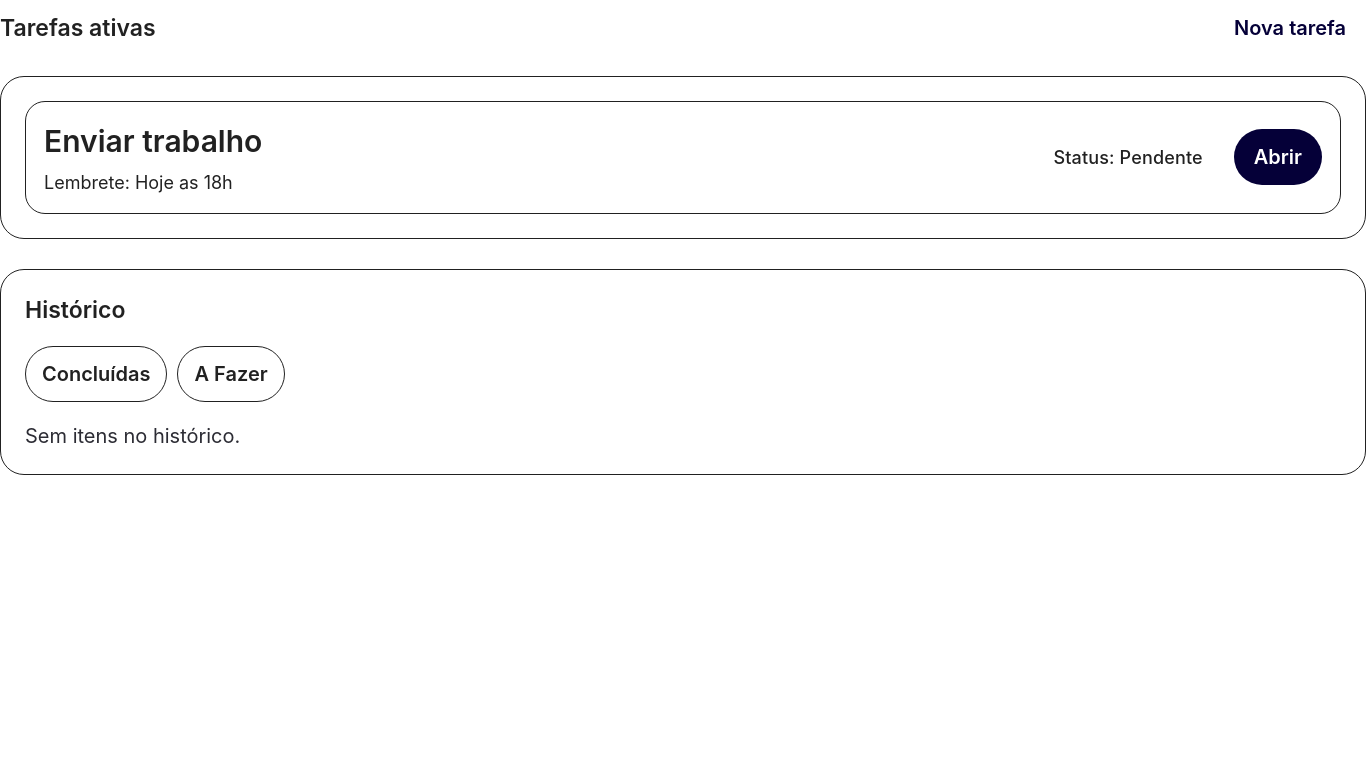
ActivityOrganizer › keeps the activity pending when modal completion is cancelled
Click the button with aria-label "Abrir atividade Enviar trabalho": [1278, 157] box top-left (1234, 129), bottom-right (1322, 185)
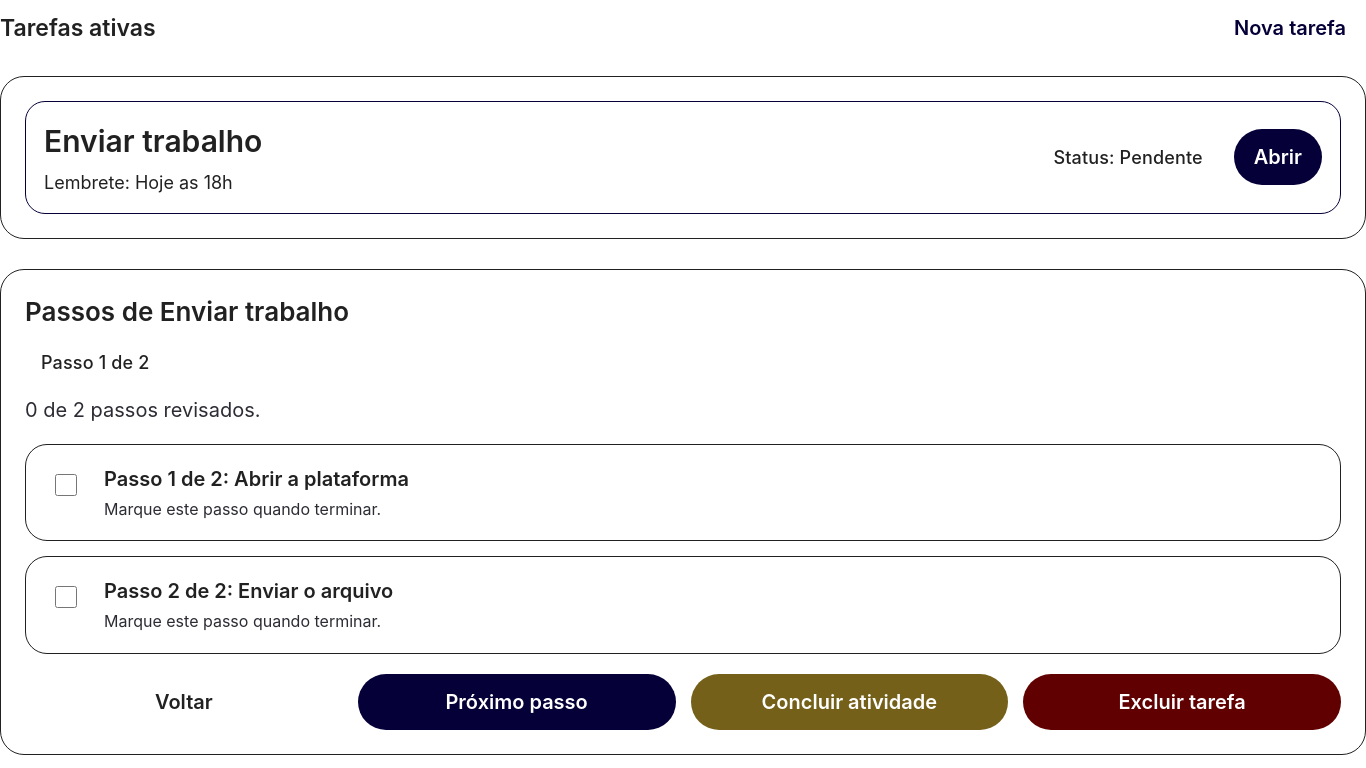
Click the button with aria-label "Concluir atividade Enviar trabalho": [849, 702] box top-left (690, 674), bottom-right (1008, 730)
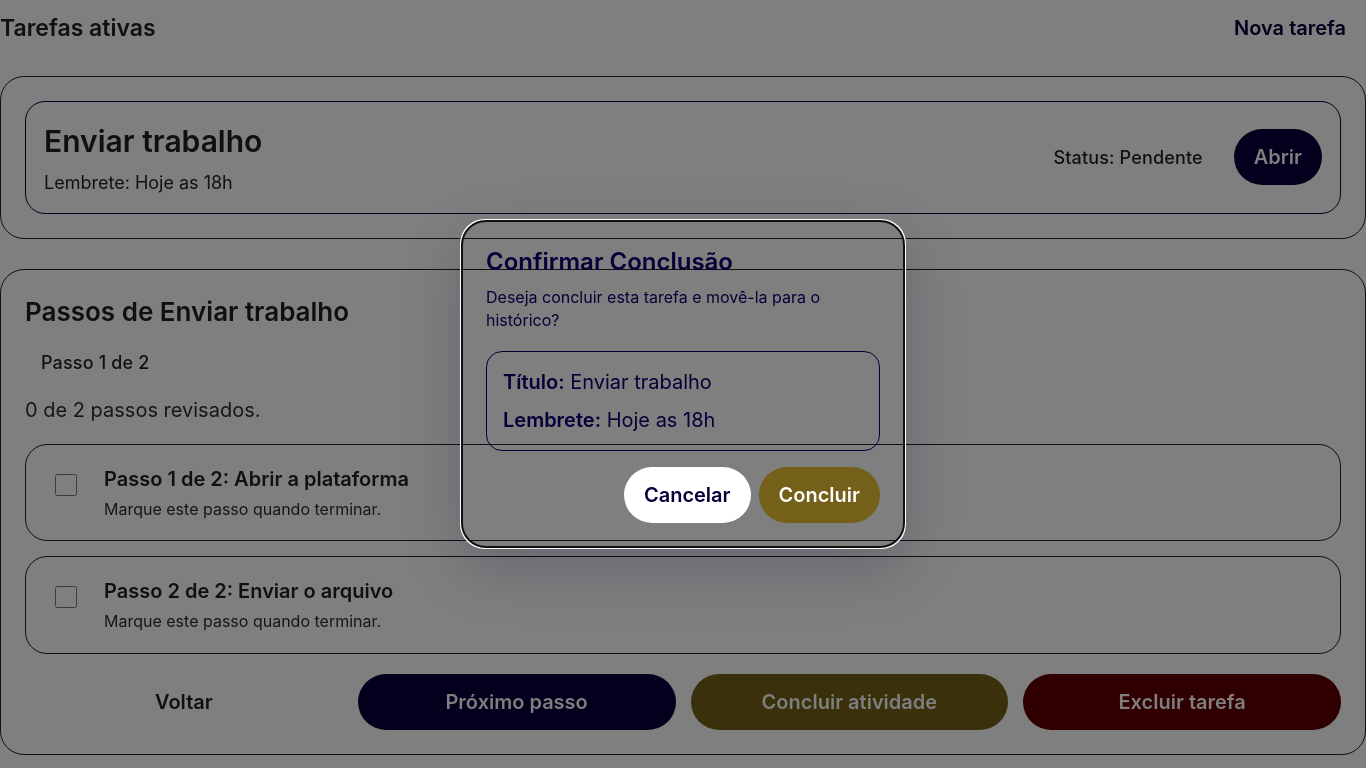
Click the button "Cancelar": [687, 495] box top-left (624, 467), bottom-right (750, 523)
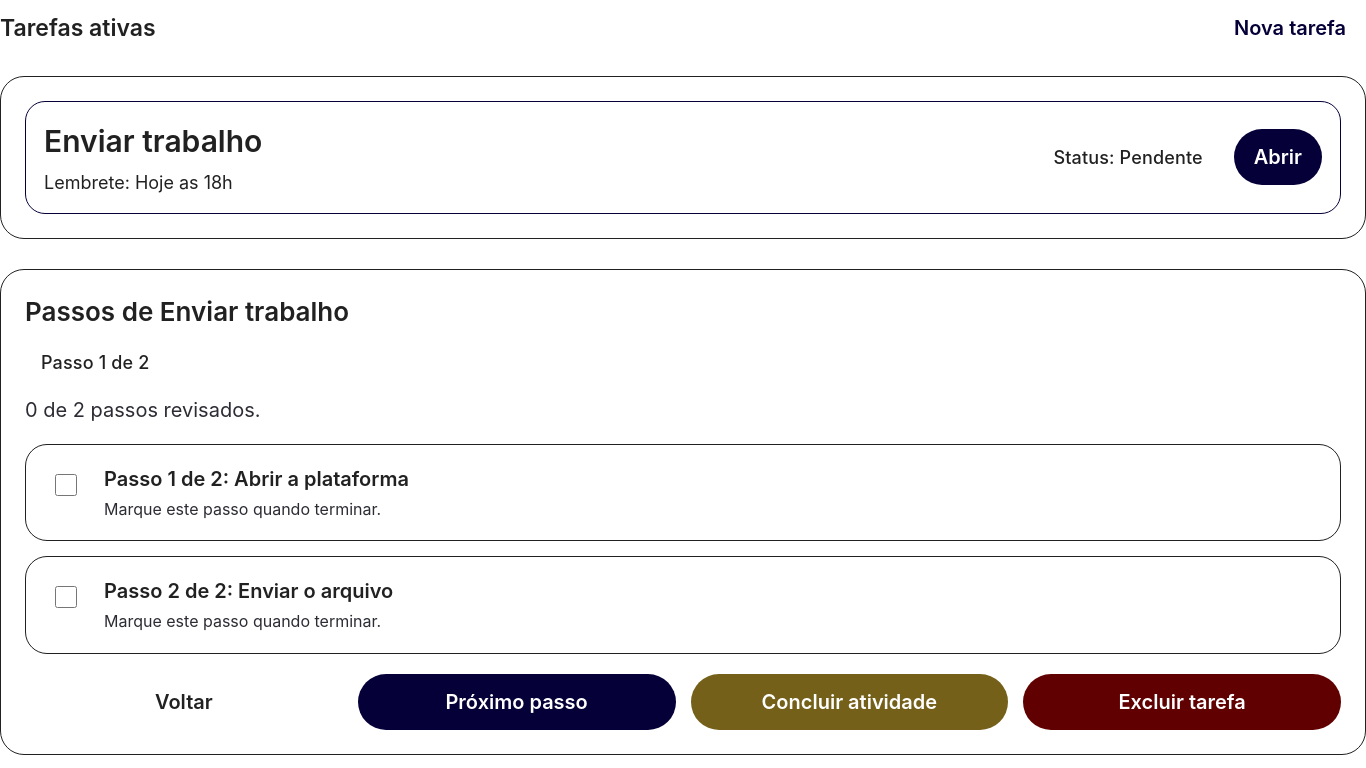
Expected: the heading "Enviar trabalho" is shown, top-left (44, 120), bottom-right (262, 162)
Expected: the dialog is gone
